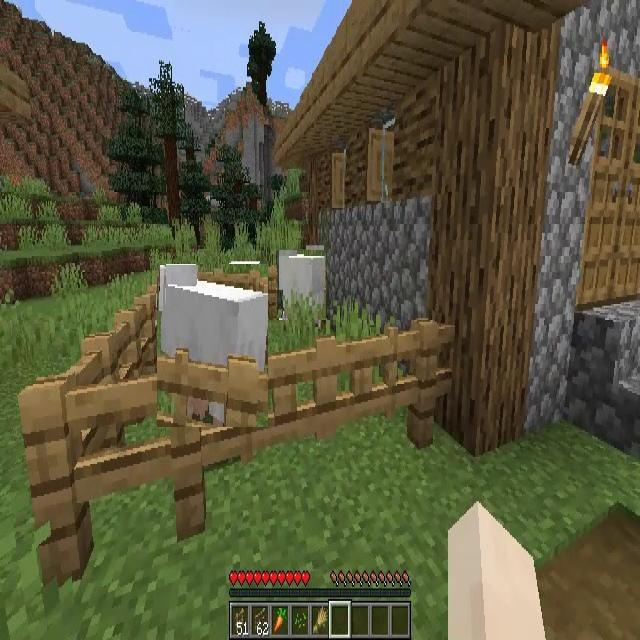sheep: (157, 264, 268, 427), (277, 250, 326, 320)
